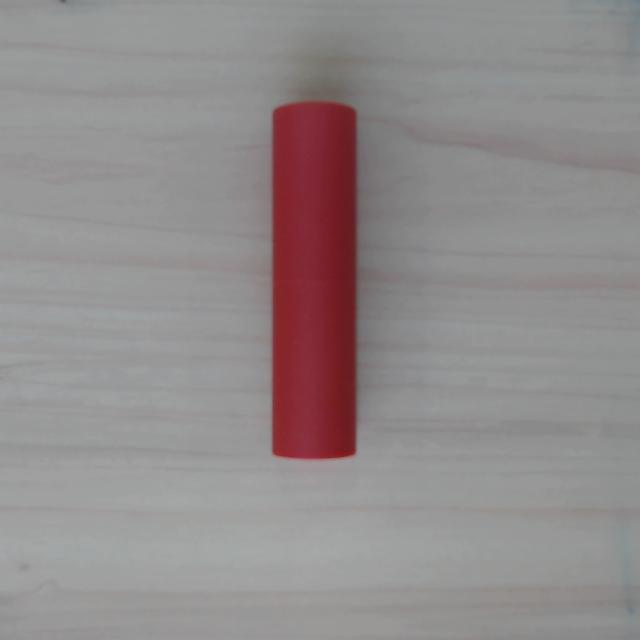Silinder-Merah-10025: (272, 102, 356, 458)
